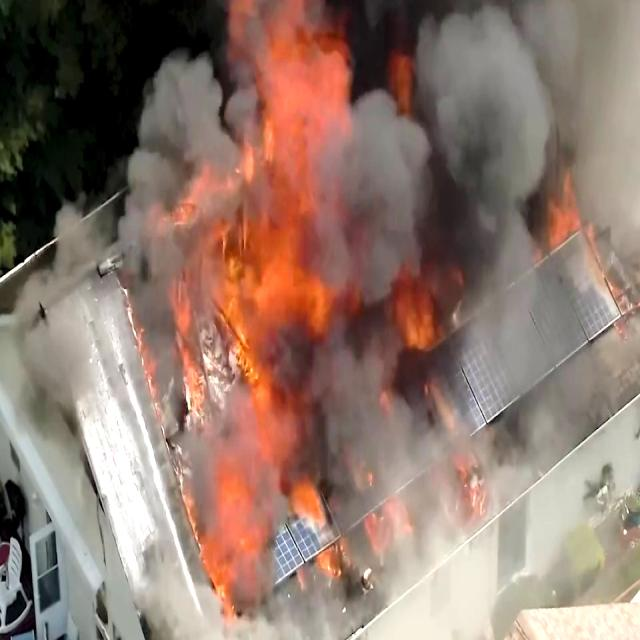fire: (183, 7, 344, 370), (204, 395, 298, 631)
smoke: (350, 0, 640, 142)
